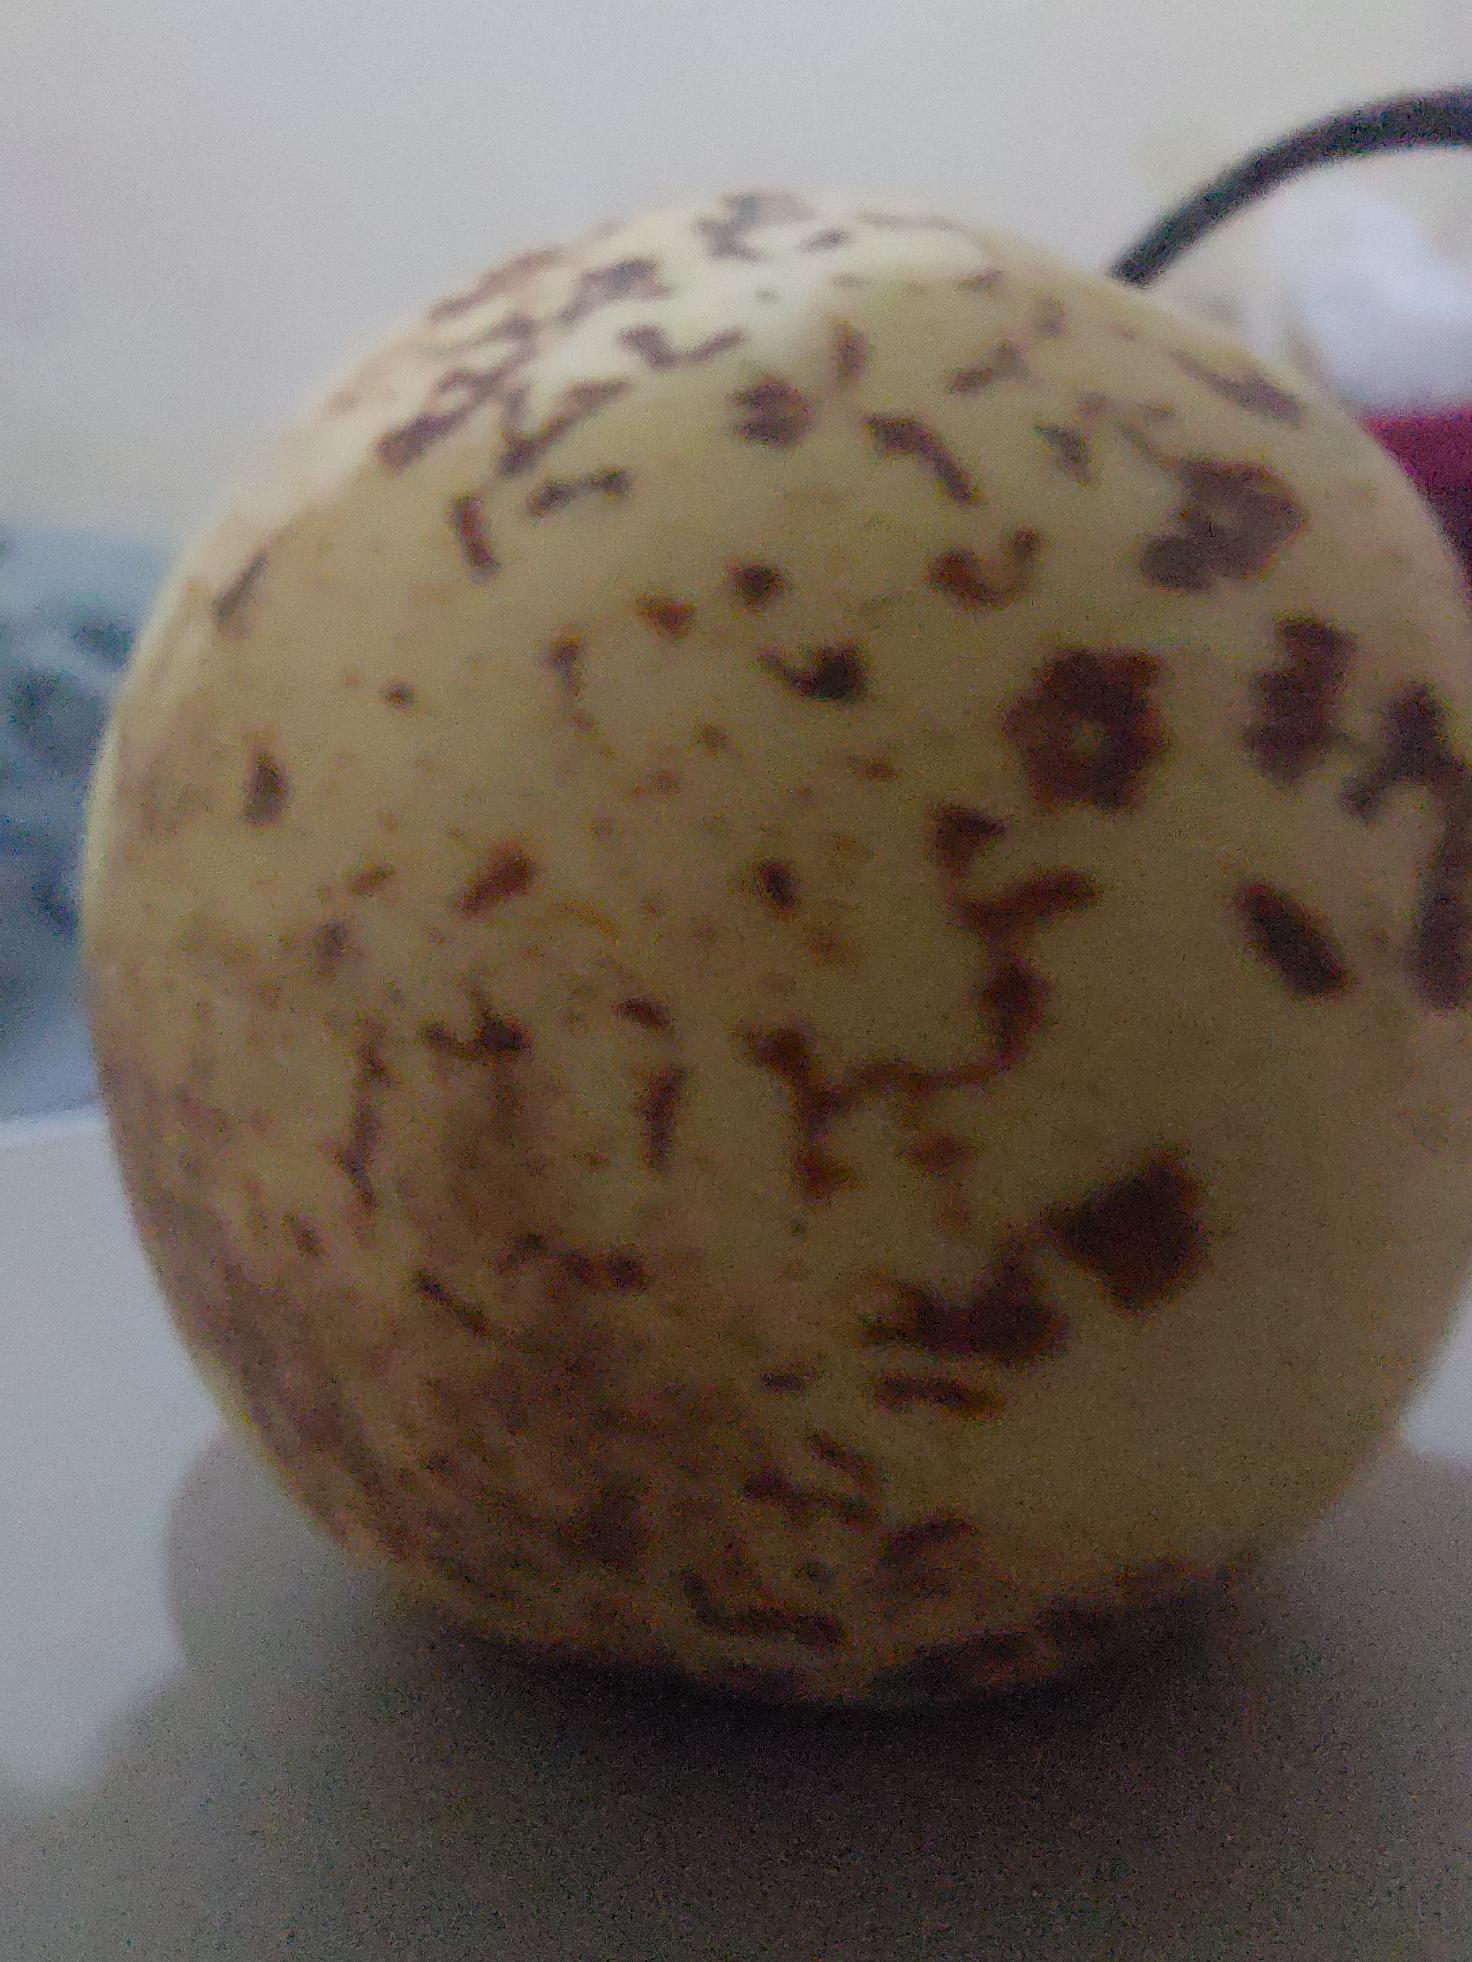Bad Pear: (82, 178, 1472, 1721)
